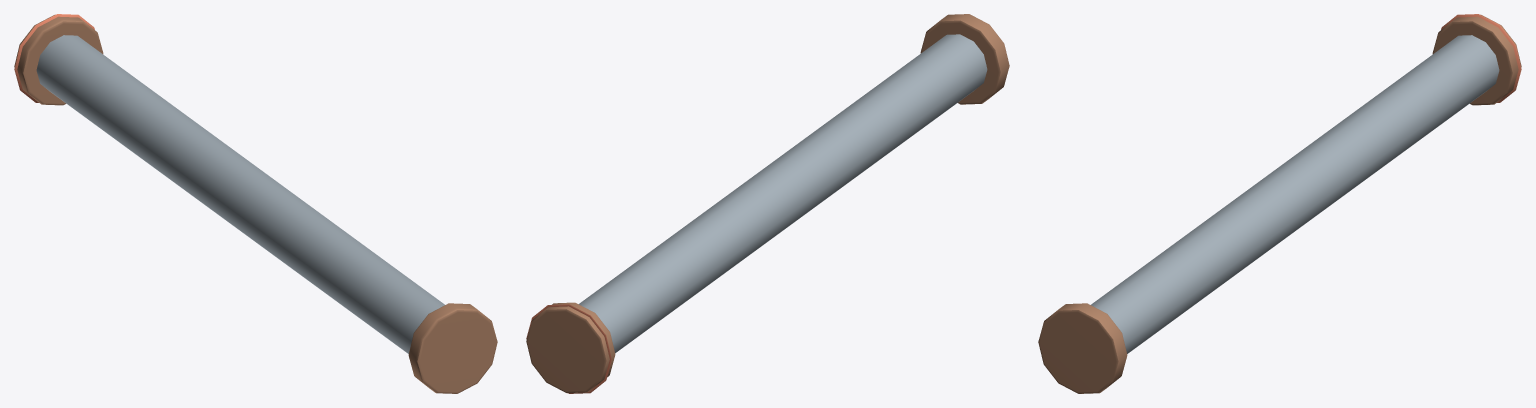
Rendered from pipe_straight.glb.
3 views of the same model, side by side, from view 1: azimuth 30°, elevation 25°; view 2: azimuth 150°, elevation 25°; view 3: azimuth 330°, elevation 25° (orthographic).
Visible parts, largest first — view 1: pipe_straight; view 2: pipe_straight; view 3: pipe_straight.
Boxes of the visible parts, box(x1,y1,x2,y2) form: pipe_straight: box(14, 14, 497, 393); pipe_straight: box(526, 14, 1009, 393); pipe_straight: box(1038, 14, 1521, 393).
Size of the model in its own units: 0.2512 by 0.2512 by 2.05.
